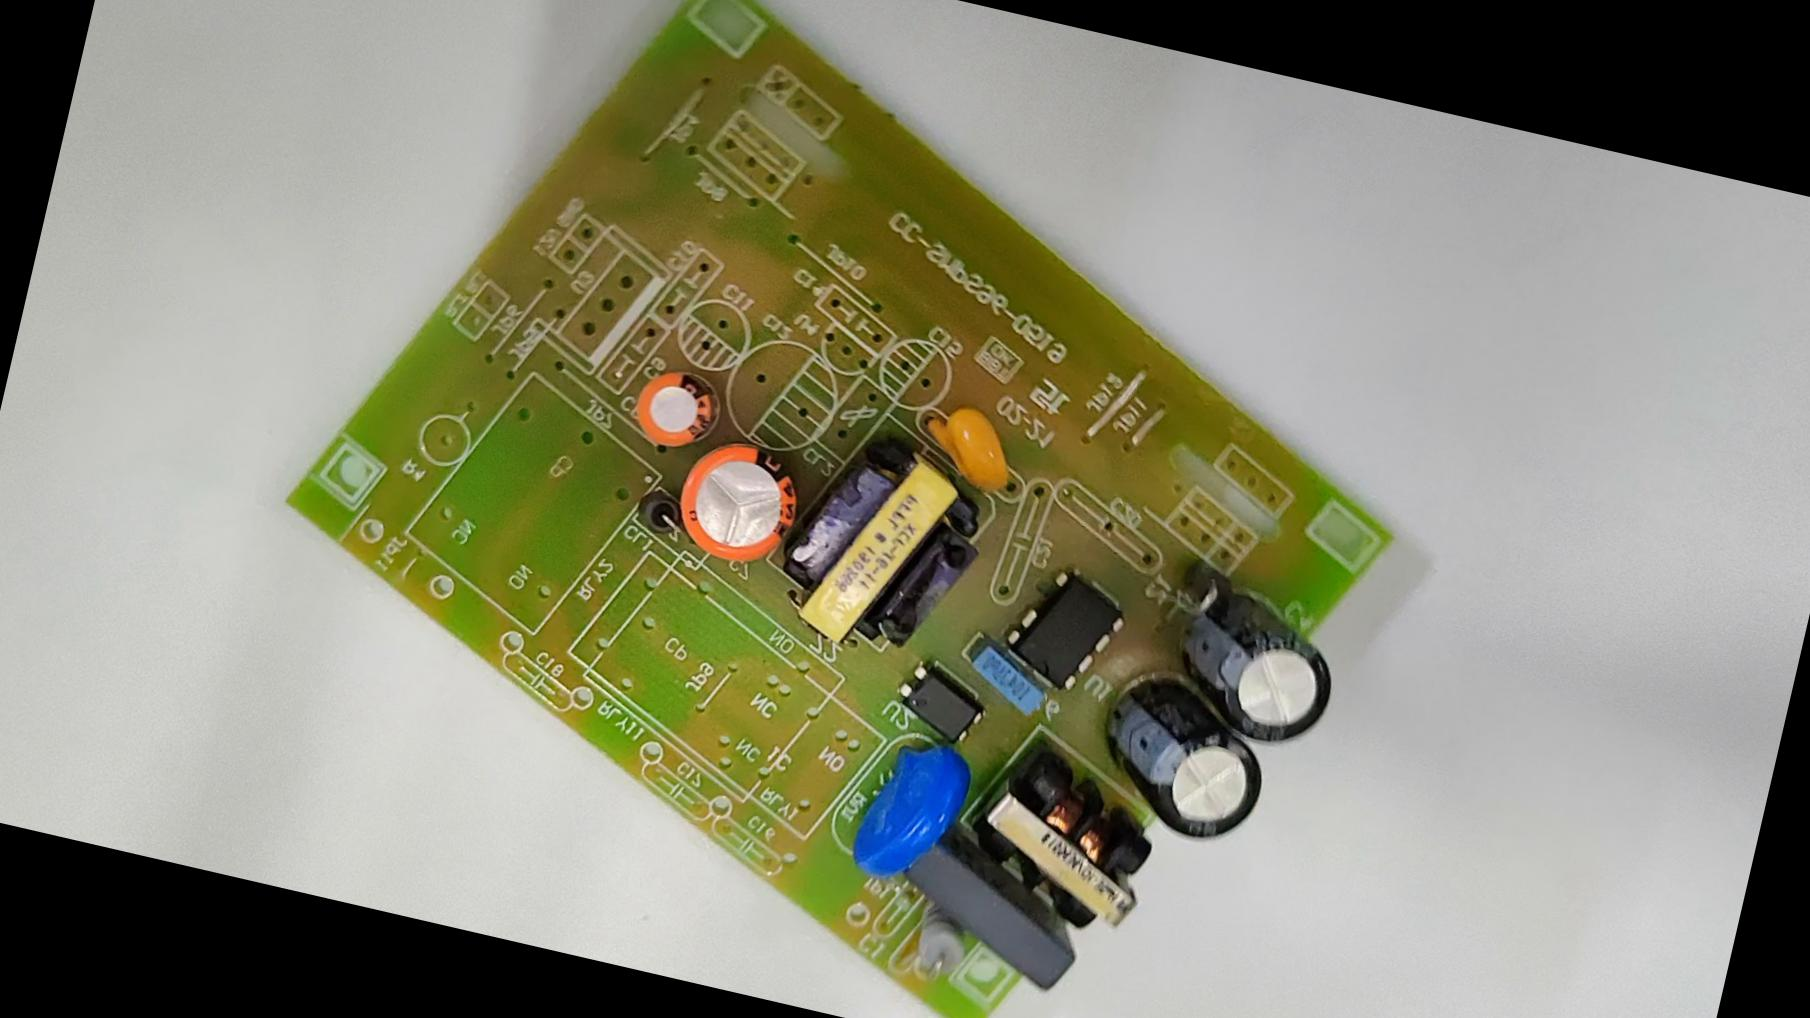Cap1: (663, 430, 813, 575)
Cap2: (624, 363, 726, 456)
Cap3: (1073, 699, 1289, 861)
Cap4: (1151, 583, 1353, 752)
MOSFET: (993, 552, 1140, 707)
Mov: (840, 718, 985, 889)
Resistor: (900, 901, 982, 994)
Transformer: (763, 433, 993, 669), (942, 746, 1167, 947)
